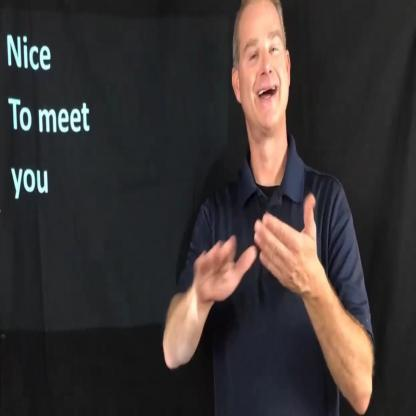NiceToMeetYou: (186, 169, 322, 300)
